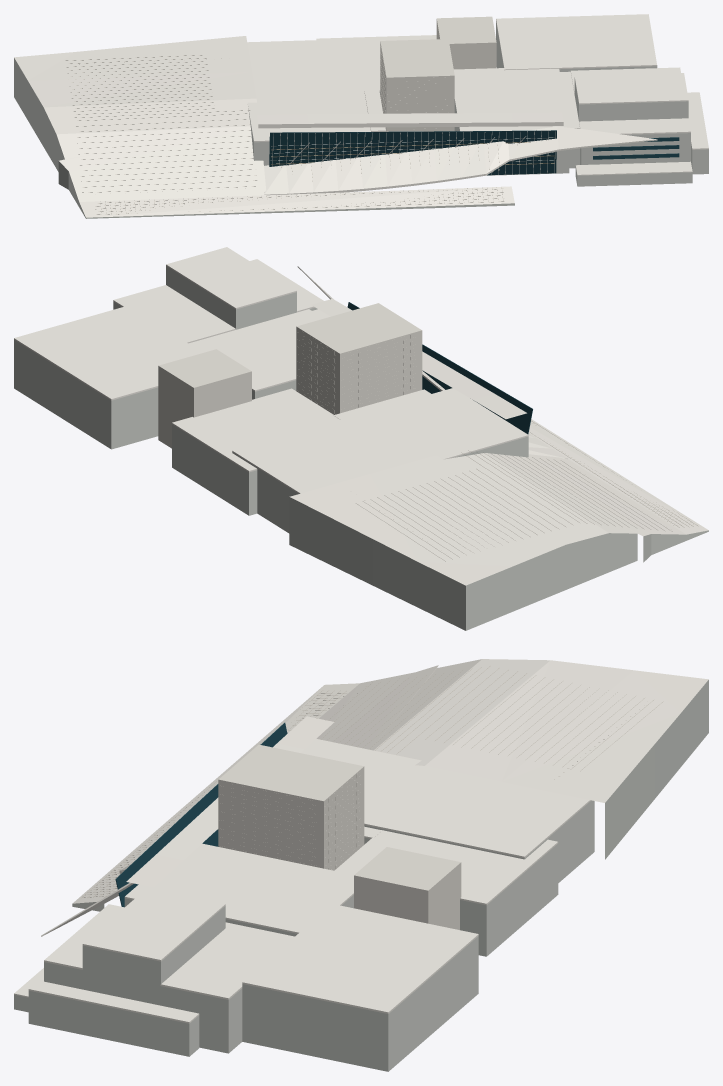
The model's file is oslo-opera-house-near.glb.
3 views of the same model, one above another, from view 1: azimuth 30°, elevation 25°; view 2: azimuth 150°, elevation 25°; view 3: azimuth 270°, elevation 25° (orthographic). The views are drawn at different scales.
Visible parts, largest first — view 1: oslo-opera-house-0-marble, oslo-opera-house-0-granite, oslo-opera-house-0-aluminium, oslo-opera-house-0-glass, oslo-opera-house-0-joint, oslo-opera-house-0-steel, oslo-opera-house-0-light; view 2: oslo-opera-house-0-marble, oslo-opera-house-0-granite, oslo-opera-house-0-aluminium, oslo-opera-house-0-joint, oslo-opera-house-0-glass; view 3: oslo-opera-house-0-marble, oslo-opera-house-0-granite, oslo-opera-house-0-aluminium, oslo-opera-house-0-joint, oslo-opera-house-0-glass.
Boxes of the visible parts, left/top/right/bottom form: oslo-opera-house-0-marble: left=14, top=14, right=708, bottom=217; oslo-opera-house-0-granite: left=14, top=20, right=708, bottom=218; oslo-opera-house-0-aluminium: left=380, top=16, right=496, bottom=131; oslo-opera-house-0-glass: left=269, top=130, right=679, bottom=175; oslo-opera-house-0-joint: left=65, top=55, right=546, bottom=214; oslo-opera-house-0-steel: left=271, top=131, right=555, bottom=174; oslo-opera-house-0-light: left=271, top=142, right=554, bottom=164; oslo-opera-house-0-marble: left=14, top=247, right=708, bottom=585; oslo-opera-house-0-granite: left=14, top=266, right=708, bottom=630; oslo-opera-house-0-aluminium: left=158, top=303, right=422, bottom=448; oslo-opera-house-0-joint: left=356, top=373, right=697, bottom=561; oslo-opera-house-0-glass: left=347, top=302, right=532, bottom=434; oslo-opera-house-0-marble: left=14, top=659, right=708, bottom=1023; oslo-opera-house-0-granite: left=14, top=680, right=708, bottom=1071; oslo-opera-house-0-aluminium: left=218, top=744, right=461, bottom=929; oslo-opera-house-0-joint: left=81, top=666, right=663, bottom=898; oslo-opera-house-0-glass: left=115, top=722, right=287, bottom=907.
Size of the model in its own units: 235 by 35 by 179.
